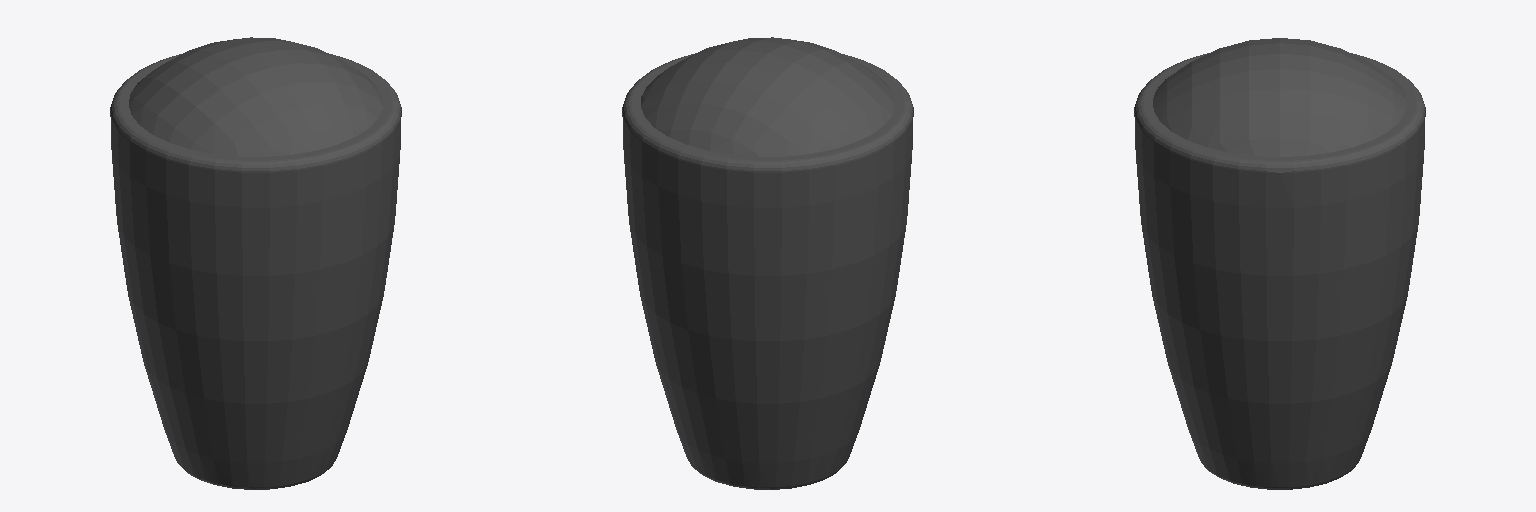
The model's file is ganter_gn_518-32-b10.obj.
3 renders of one model, left to right at view 1: azimuth 30°, elevation 25°; view 2: azimuth 150°, elevation 25°; view 3: azimuth 270°, elevation 25°, orthographic.
Visible parts, largest first — view 1: ganter_gn_518-32-b10_1; view 2: ganter_gn_518-32-b10_1; view 3: ganter_gn_518-32-b10_1.
Part boxes in pixels (x1,y1,x2,y2): ganter_gn_518-32-b10_1: (110,37,401,489); ganter_gn_518-32-b10_1: (622,37,913,489); ganter_gn_518-32-b10_1: (1134,38,1425,489).
Bounding box in the file's own units: 32 × 49 × 31.96.